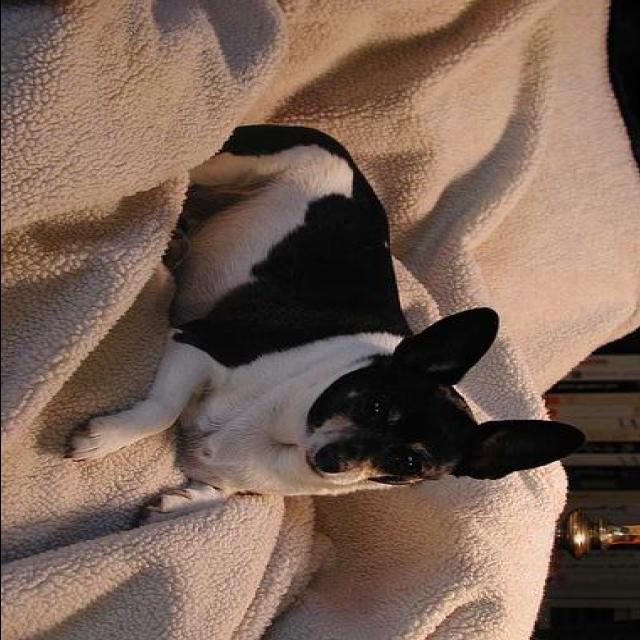toy_terrier: (62, 124, 586, 531)
